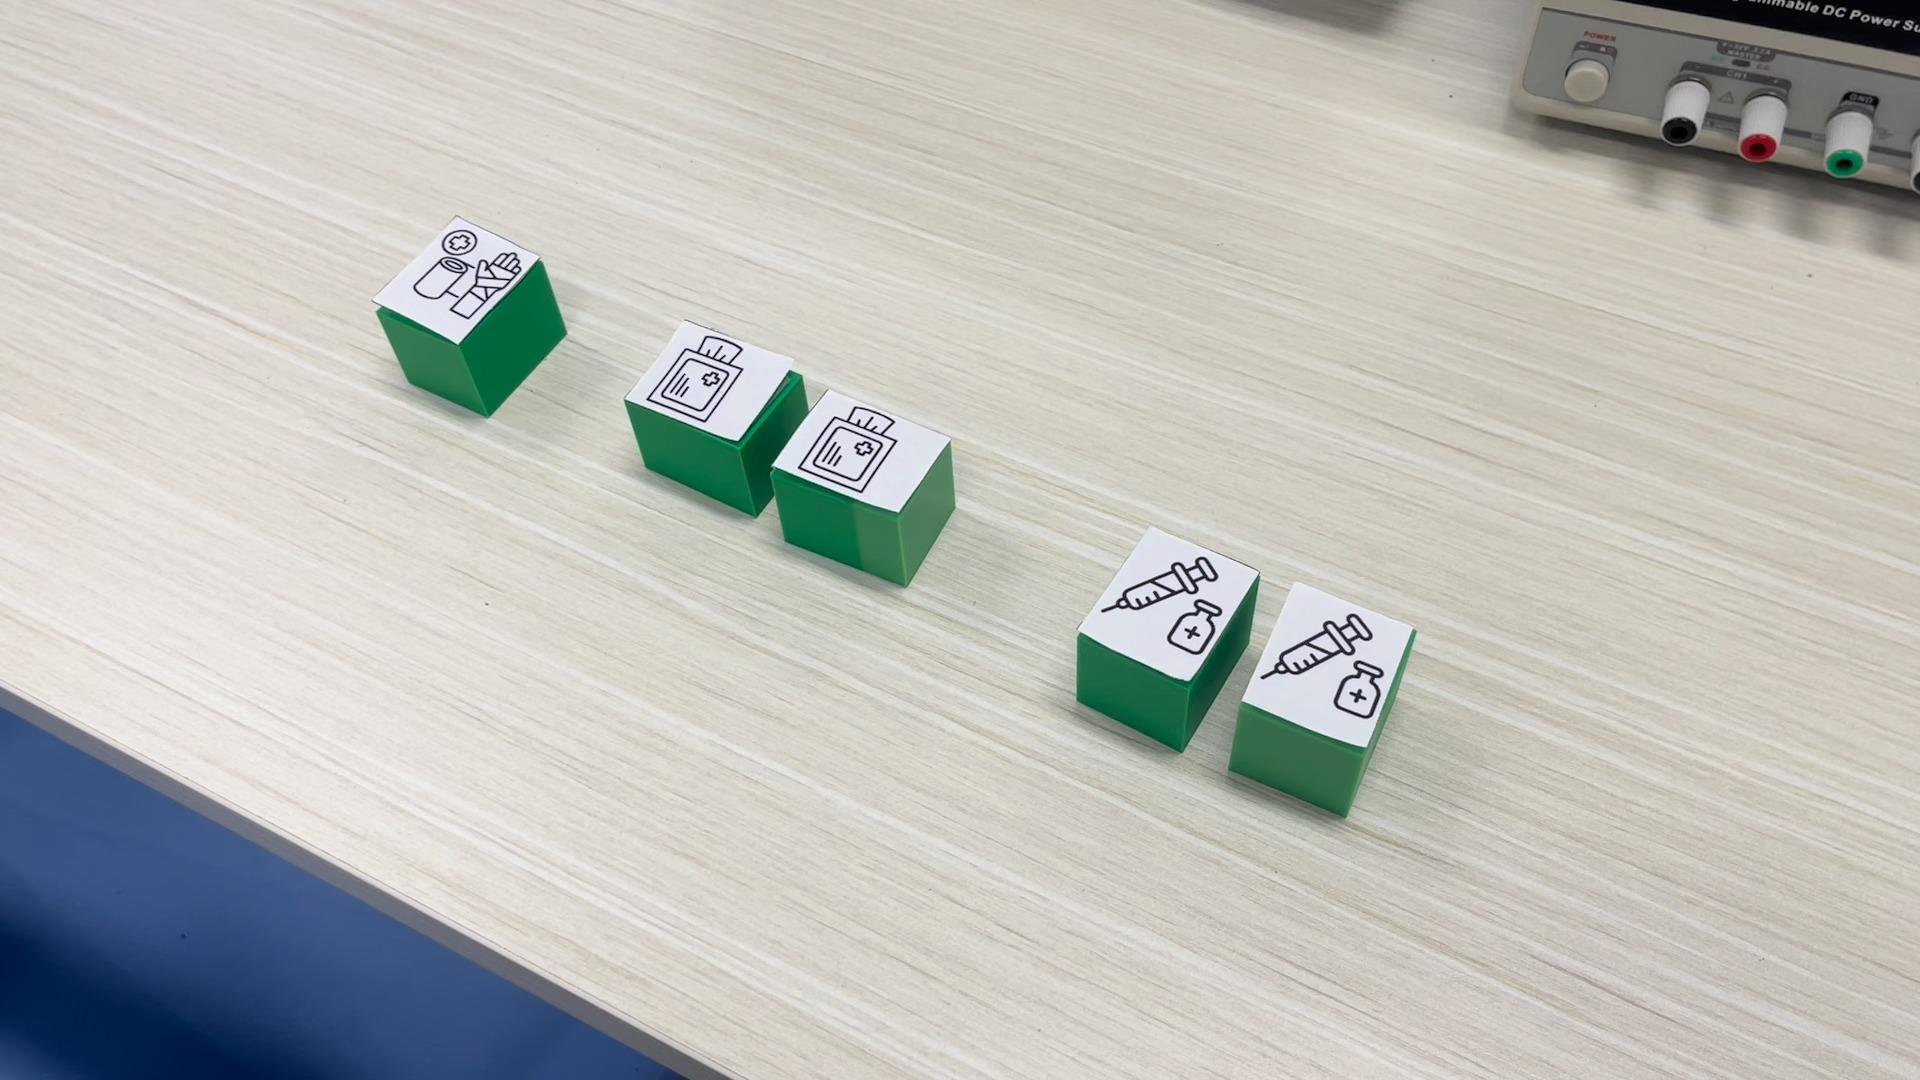Bandages: (373, 215, 567, 418)
Gauze: (771, 384, 956, 587), (624, 315, 804, 516)
antiseptic cream: (1229, 579, 1418, 818), (1075, 524, 1257, 752)
